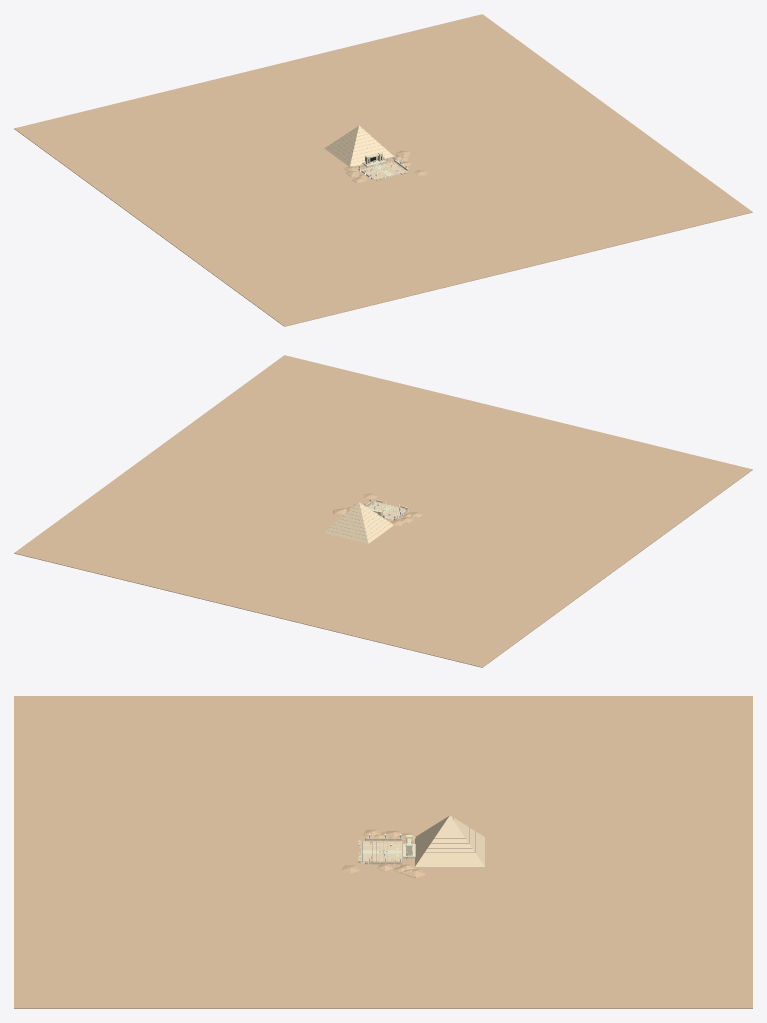
Rendered from mummy_arena_a_painted.glb.
The picture shows the model from 3 angles, top to bottom: view 1: azimuth 30°, elevation 25°; view 2: azimuth 150°, elevation 25°; view 3: azimuth 270°, elevation 25°; orthographic projection. The views are drawn at different scales.
Visible parts, largest first — view 1: MummyTombGeometry; view 2: MummyTombGeometry; view 3: MummyTombGeometry.
Part boxes in pixels (x1=…): MummyTombGeometry: x1=14, y1=14, x2=752, y2=326; MummyTombGeometry: x1=14, y1=355, x2=752, y2=667; MummyTombGeometry: x1=14, y1=696, x2=752, y2=1008.
Size of the model in its own units: 400 by 24.92 by 400.
9 materials, 5 textured.
